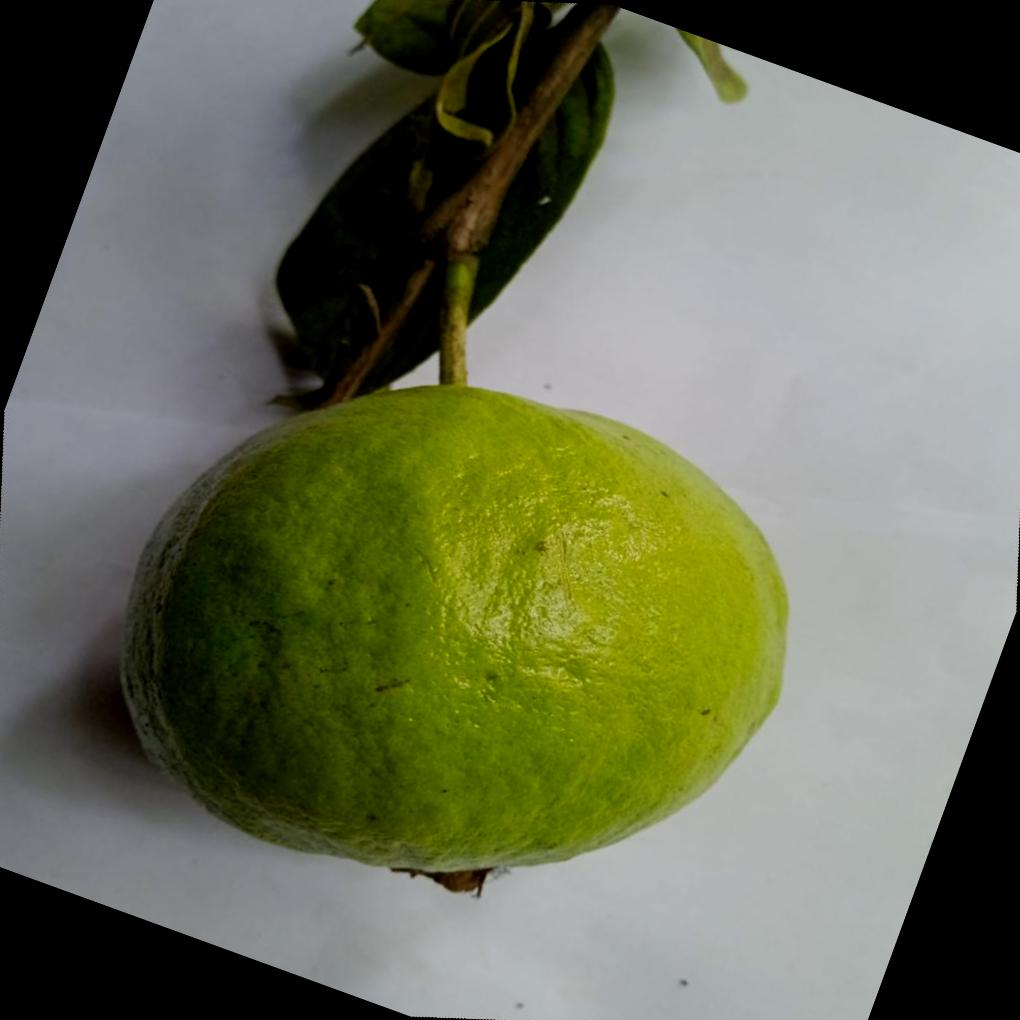FreshGuava: (115, 386, 789, 884)
